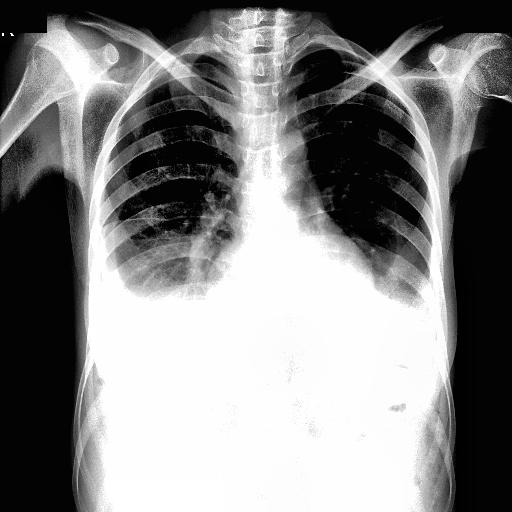10- Pleural effusion: (91, 219, 249, 399), (82, 220, 202, 384), (85, 224, 173, 352), (365, 271, 441, 355)
7- Lung Opacity: (95, 234, 201, 364), (96, 232, 178, 362), (123, 241, 212, 335), (358, 251, 442, 349), (370, 258, 442, 342)
